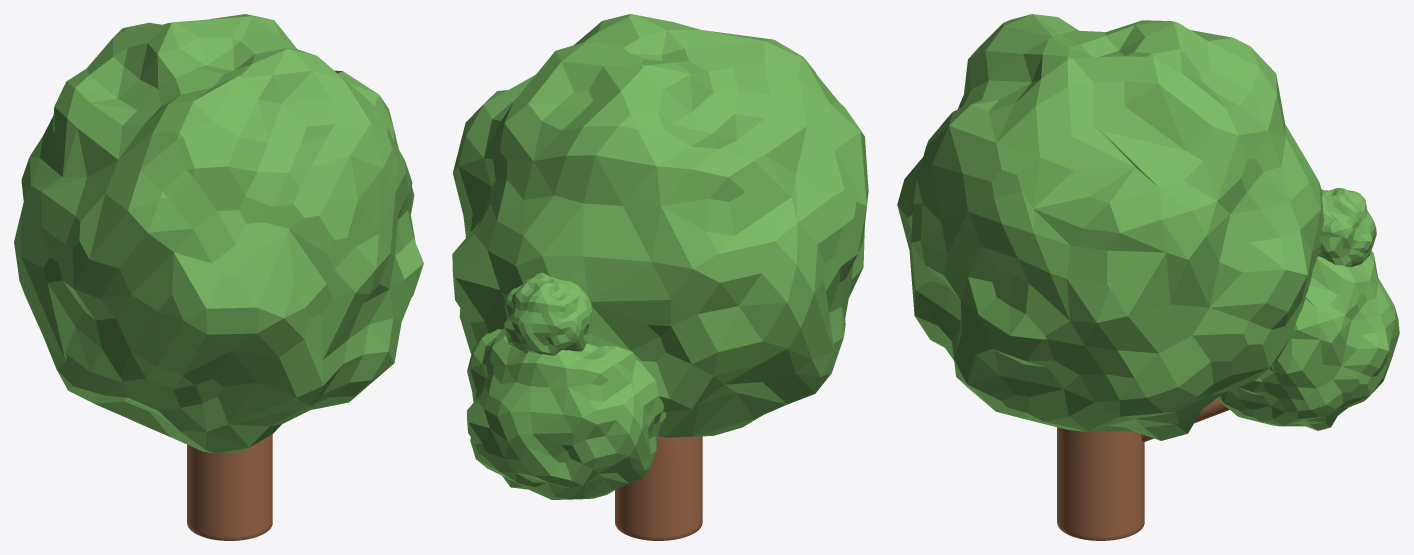
Rendered from Tree_2.fbx.
3 views of the same model, side by side, from view 1: azimuth 30°, elevation 25°; view 2: azimuth 150°, elevation 25°; view 3: azimuth 270°, elevation 25° (orthographic). The views are drawn at different scales.
Visible parts, largest first — view 1: Icosphere.023, Cylinder.012; view 2: Icosphere.023, Icosphere.022, Cylinder.012, Icosphere.024; view 3: Icosphere.023, Icosphere.022, Cylinder.012, Icosphere.024.
Part boxes in pixels (<box>): Icosphere.023: <box>14,14,423,453</box>; Cylinder.012: <box>187,434,272,540</box>; Icosphere.023: <box>452,14,868,437</box>; Icosphere.022: <box>467,327,665,499</box>; Cylinder.012: <box>615,436,702,540</box>; Icosphere.024: <box>504,272,592,355</box>; Icosphere.023: <box>897,14,1324,440</box>; Icosphere.022: <box>1218,251,1399,430</box>; Cylinder.012: <box>1057,427,1144,540</box>; Icosphere.024: <box>1318,188,1376,266</box>.
Bounding box in the file's own units: 1901 × 2399 × 2230.
